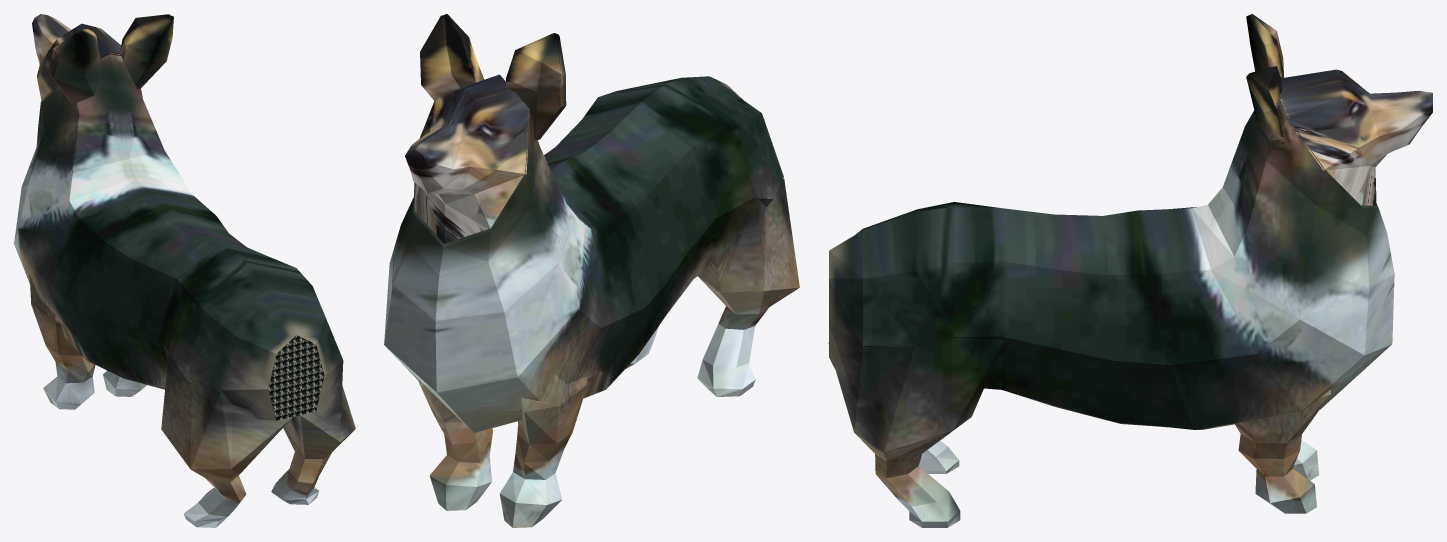
Rendered from corgi.fbx.
3 views of the same model, side by side, from view 1: azimuth 30°, elevation 25°; view 2: azimuth 150°, elevation 25°; view 3: azimuth 270°, elevation 25° (orthographic). The views are drawn at different scales.
Visible parts, largest first — view 1: Component_1_1; view 2: Component_1_1; view 3: Component_1_1.
Part boxes in pixels (x1,y1,x2,y2): Component_1_1: (14,14,355,527); Component_1_1: (384,14,799,527); Component_1_1: (828,14,1432,527).
Size of the model in its own units: 32.41 by 72.57 by 86.86.
